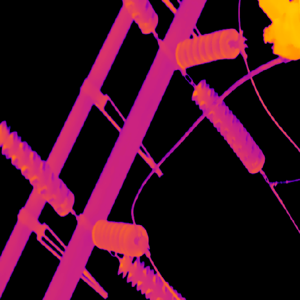insulator: (190, 78, 265, 173), (0, 119, 74, 215), (116, 253, 186, 300), (174, 25, 240, 69), (89, 213, 150, 256), (124, 0, 158, 34)
